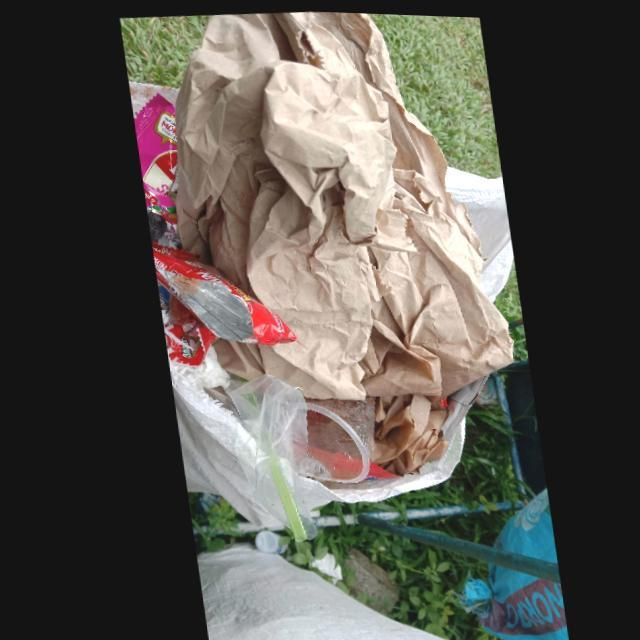paper: (167, 9, 508, 474)
wrapper: (147, 242, 299, 345), (131, 92, 177, 249)
